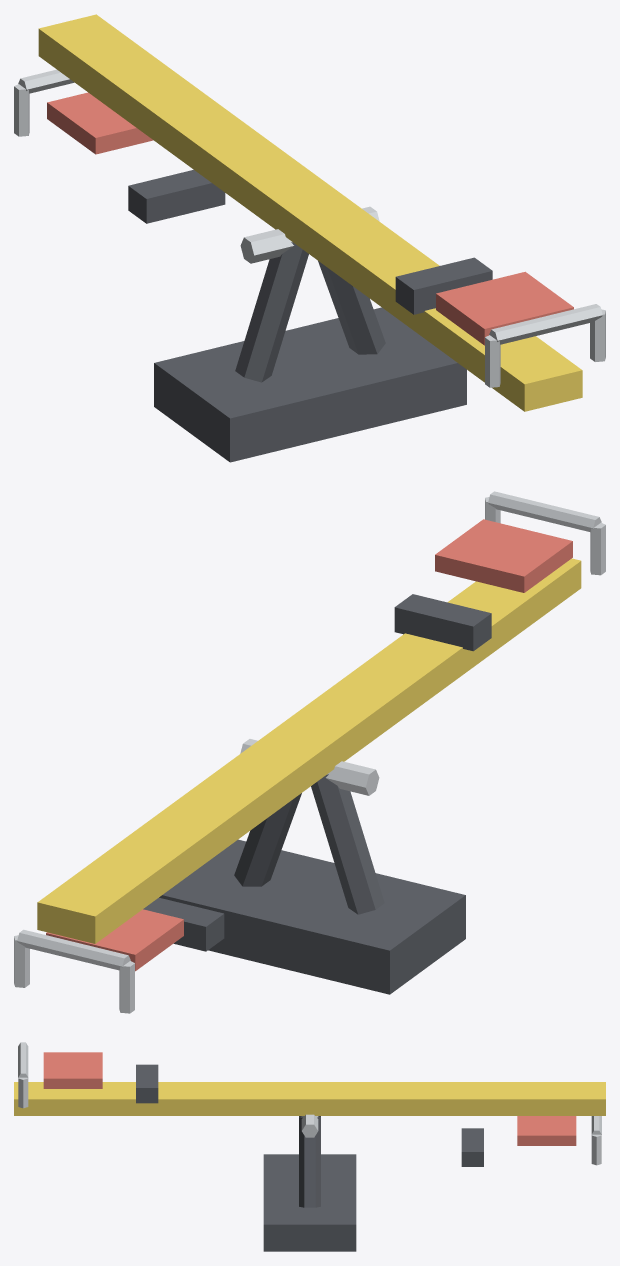
The model's file is 33655-Two-Seat-Seesaw-City-Park-and-Playground.glb.
3 views of the same model, one above another, from view 1: azimuth 30°, elevation 25°; view 2: azimuth 150°, elevation 25°; view 3: azimuth 270°, elevation 25° (orthographic). The views are drawn at different scales.
Visible parts, largest first — view 1: beam/sunflower, seesaw-charcoal, beam/poppy, beam/charcoal, beam/steel, seesaw-steel; view 2: beam/sunflower, seesaw-charcoal, beam/poppy, beam/steel, beam/charcoal, seesaw-steel; view 3: beam/sunflower, seesaw-charcoal, beam/poppy, beam/charcoal, beam/steel, seesaw-steel.
Boxes of the visible parts, x1=… form: beam/sunflower: x1=38, y1=14, x2=582, y2=411; seesaw-charcoal: x1=154, y1=242, x2=466, y2=462; beam/poppy: x1=47, y1=92, x2=573, y2=345; beam/charcoal: x1=128, y1=169, x2=492, y2=314; beam/steel: x1=14, y1=69, x2=605, y2=387; seesaw-steel: x1=240, y1=206, x2=379, y2=263; beam/sunflower: x1=37, y1=558, x2=581, y2=943; seesaw-charcoal: x1=159, y1=774, x2=465, y2=994; beam/poppy: x1=46, y1=519, x2=572, y2=971; beam/steel: x1=14, y1=491, x2=605, y2=1013; beam/charcoal: x1=143, y1=594, x2=491, y2=951; seesaw-steel: x1=240, y1=739, x2=379, y2=795; beam/sunflower: x1=14, y1=1082, x2=605, y2=1115; seesaw-charcoal: x1=263, y1=1116, x2=356, y2=1251; beam/poppy: x1=43, y1=1052, x2=576, y2=1145; beam/charcoal: x1=136, y1=1064, x2=483, y2=1166; beam/steel: x1=18, y1=1042, x2=601, y2=1165; seesaw-steel: x1=301, y1=1114, x2=318, y2=1137.
Bounding box in the file's own units: 0.9 × 0.9443 × 3.2.
